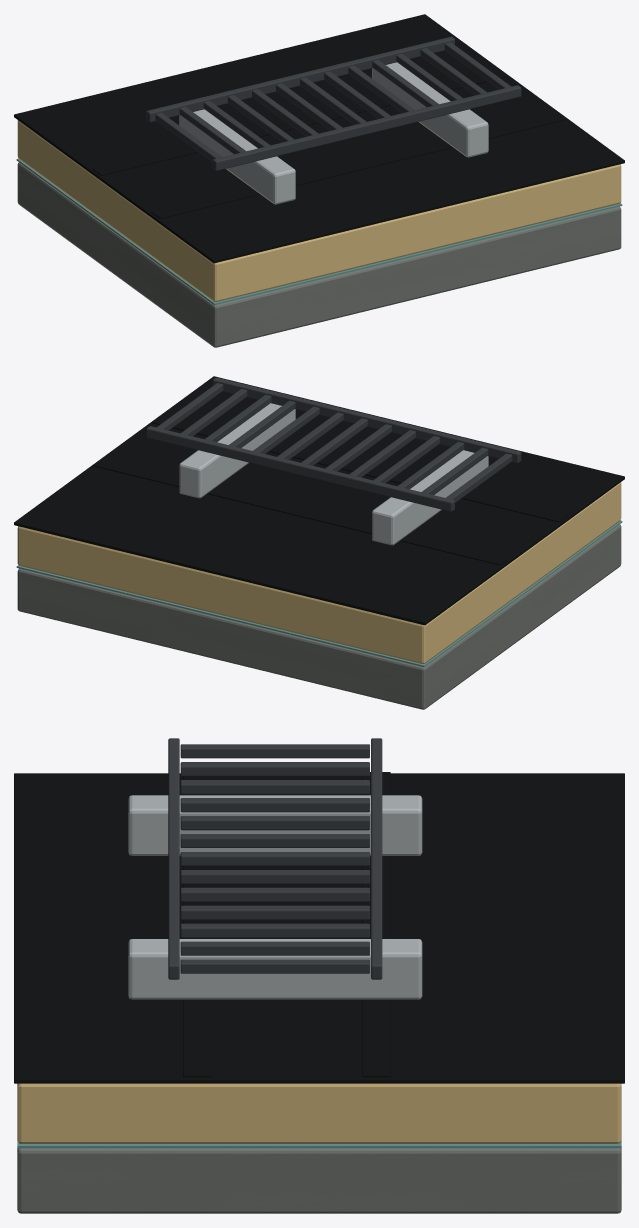
File: modell.glb
The picture shows the model from 3 angles, top to bottom: view 1: azimuth 30°, elevation 25°; view 2: azimuth 150°, elevation 25°; view 3: azimuth 270°, elevation 25°; orthographic projection. The views are drawn at different scales.
Visible parts, largest first — view 1: a03-abdichtung_deckung, a03-untergrund_tragwerk, a03-daemmung_daemmung, a03-tritt_, a03-halter_, a03-naht_deckung, a03-luftdichtheit_luftdichtheit; view 2: a03-abdichtung_deckung, a03-untergrund_tragwerk, a03-daemmung_daemmung, a03-tritt_, a03-halter_, a03-naht_deckung, a03-luftdichtheit_luftdichtheit; view 3: a03-abdichtung_deckung, a03-tritt_, a03-untergrund_tragwerk, a03-daemmung_daemmung, a03-halter_, a03-naht_deckung, a03-luftdichtheit_luftdichtheit.
Boxes of the visible parts, x1,y1,x2,y2 form: a03-abdichtung_deckung: (14,14,624,263); a03-untergrund_tragwerk: (17,162,621,347); a03-daemmung_daemmung: (17,120,621,301); a03-tritt_: (146,36,521,170); a03-halter_: (179,62,488,204); a03-naht_deckung: (92,69,567,218); a03-luftdichtheit_luftdichtheit: (16,158,622,305); a03-abdichtung_deckung: (14,376,624,625); a03-untergrund_tragwerk: (17,524,621,709); a03-daemmung_daemmung: (17,482,621,663); a03-tritt_: (146,377,521,511); a03-halter_: (179,403,488,545); a03-naht_deckung: (92,415,567,565); a03-luftdichtheit_luftdichtheit: (16,520,622,667); a03-abdichtung_deckung: (14,773,624,1083); a03-tritt_: (168,738,382,979); a03-untergrund_tragwerk: (17,1148,621,1213); a03-daemmung_daemmung: (17,1083,621,1143); a03-halter_: (128,795,422,999); a03-naht_deckung: (183,772,390,1077); a03-luftdichtheit_luftdichtheit: (17,1141,621,1148).
Size of the model in its own units: 2.22 by 0.715 by 1.87.
Materials: 6 (1 with a texture image).
